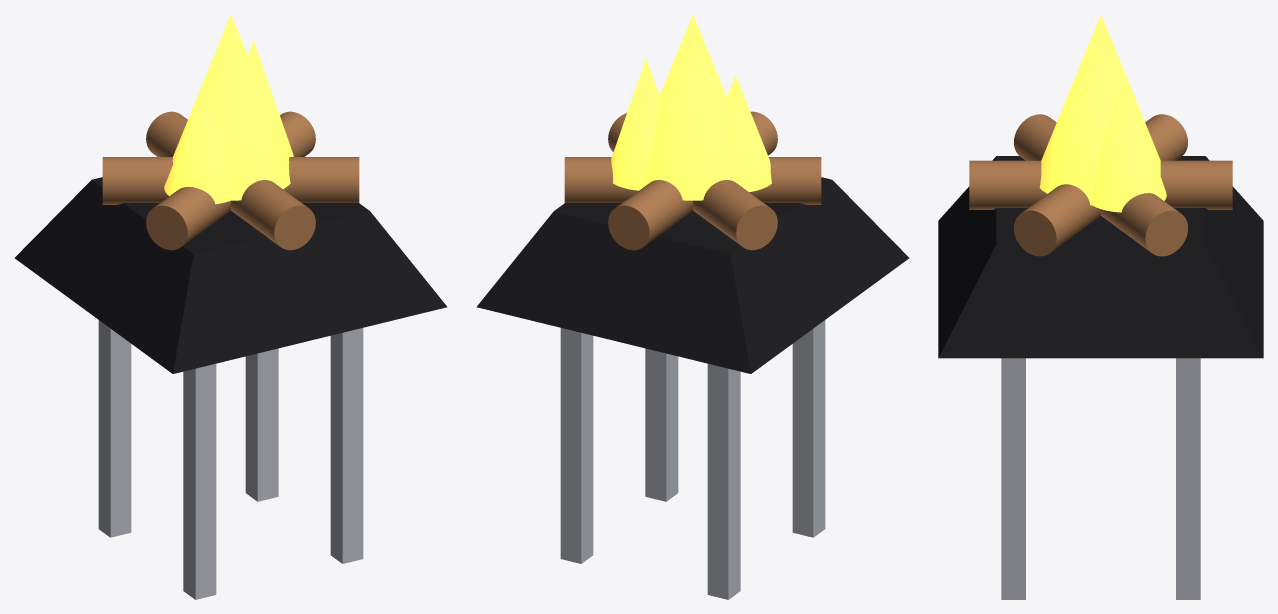
The model's file is firepit.glb.
3 renders of one model, left to right at view 1: azimuth 30°, elevation 25°; view 2: azimuth 150°, elevation 25°; view 3: azimuth 270°, elevation 25°, orthographic. The views are drawn at different scales.
Visible parts, largest first — view 1: bowl, fl1, leg2, leg3, leg1, log1, log0, leg0, log2, fl3, fl2; view 2: bowl, fl1, leg1, leg0, leg2, log2, leg3, log0, log1, fl2, fl3; view 3: bowl, fl1, log0, leg0, leg3, fl2, log1, log2.
Boxes of the visible parts, bbox=[...] form: bowl: bbox=[14, 177, 447, 373]; fl1: bbox=[172, 14, 290, 200]; leg2: bbox=[183, 363, 216, 599]; leg3: bbox=[330, 328, 363, 563]; leg1: bbox=[98, 320, 131, 537]; log1: bbox=[102, 157, 359, 204]; log0: bbox=[146, 111, 315, 250]; leg0: bbox=[245, 348, 278, 501]; log2: bbox=[146, 111, 315, 250]; fl3: bbox=[164, 87, 230, 204]; fl2: bbox=[248, 40, 293, 156]; bowl: bbox=[476, 177, 909, 373]; fl1: bbox=[645, 14, 735, 200]; leg1: bbox=[707, 363, 740, 599]; leg0: bbox=[560, 328, 593, 563]; leg2: bbox=[792, 320, 825, 537]; log2: bbox=[564, 157, 821, 204]; leg3: bbox=[645, 348, 678, 501]; log0: bbox=[608, 111, 777, 250]; log1: bbox=[608, 113, 777, 250]; fl2: bbox=[611, 58, 659, 190]; fl3: bbox=[725, 75, 771, 192]; bowl: bbox=[938, 156, 1263, 358]; fl1: bbox=[1039, 14, 1160, 205]; log0: bbox=[969, 160, 1232, 209]; leg0: bbox=[1176, 358, 1200, 599]; leg3: bbox=[1001, 358, 1025, 599]; fl2: bbox=[1092, 76, 1166, 212]; log1: bbox=[1014, 114, 1187, 256]; log2: bbox=[1014, 114, 1187, 256].
Size of the model in its own units: 0.396 by 0.73 by 0.396.
